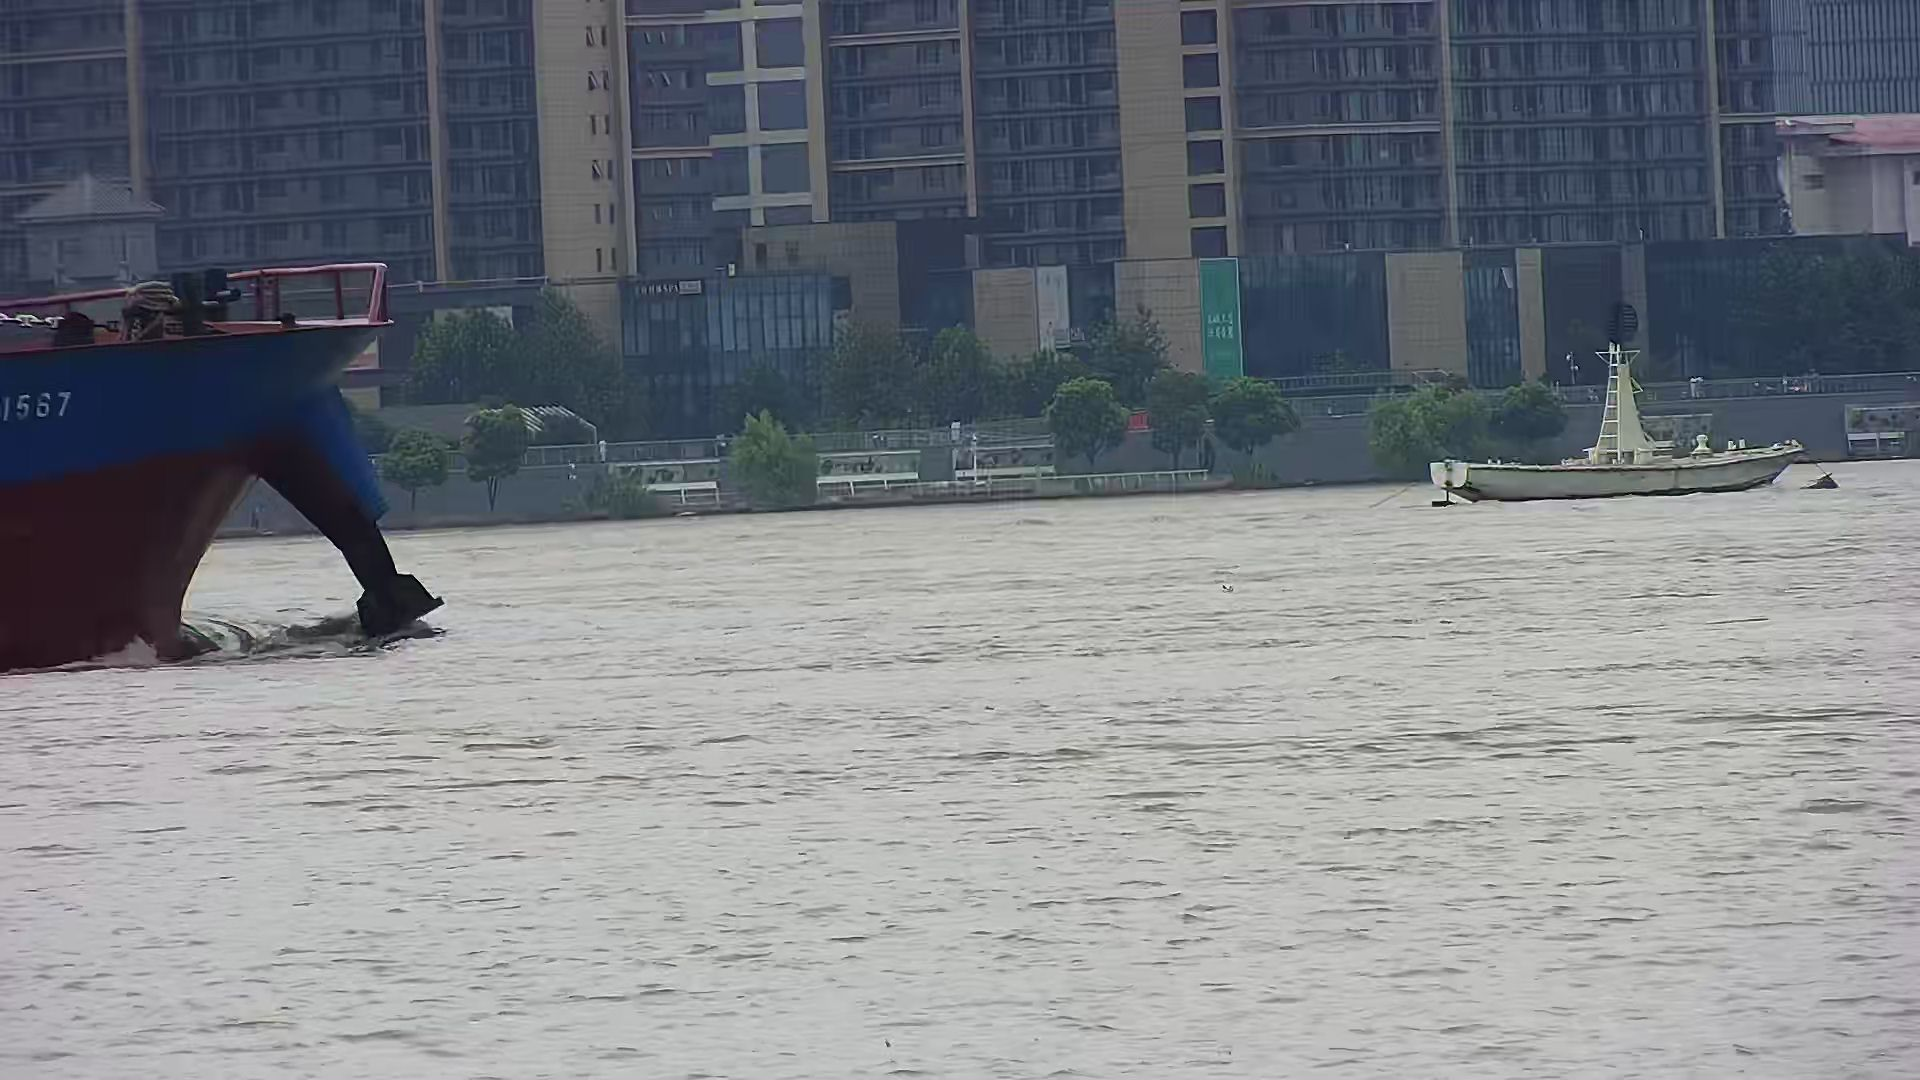boat: (1428, 335, 1809, 502)
ship: (3, 260, 444, 676)
